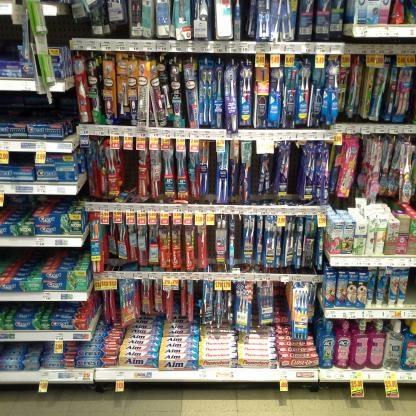Void: (3, 93, 66, 119), (36, 192, 82, 209), (0, 20, 16, 61), (2, 248, 44, 262), (124, 150, 138, 191), (8, 194, 30, 219), (49, 20, 67, 42), (292, 153, 300, 196), (278, 289, 288, 318), (12, 153, 31, 165), (409, 270, 415, 306)
